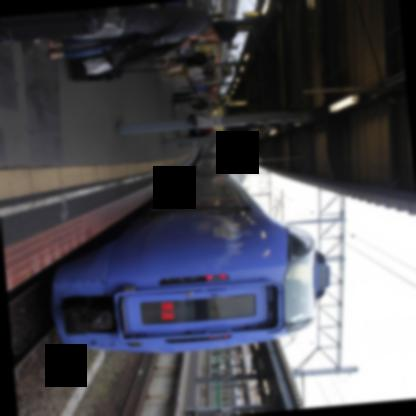backpack: (100, 39, 187, 69)
handbag: (100, 37, 183, 71), (80, 57, 112, 74), (187, 101, 209, 108)
suitcase: (0, 8, 109, 43), (70, 56, 97, 82), (94, 70, 120, 81), (172, 91, 192, 97), (172, 98, 185, 104)
